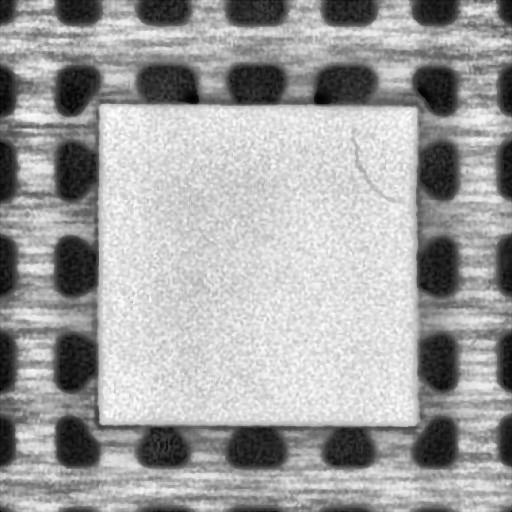DIE_CRACK: (348, 130, 398, 208)
